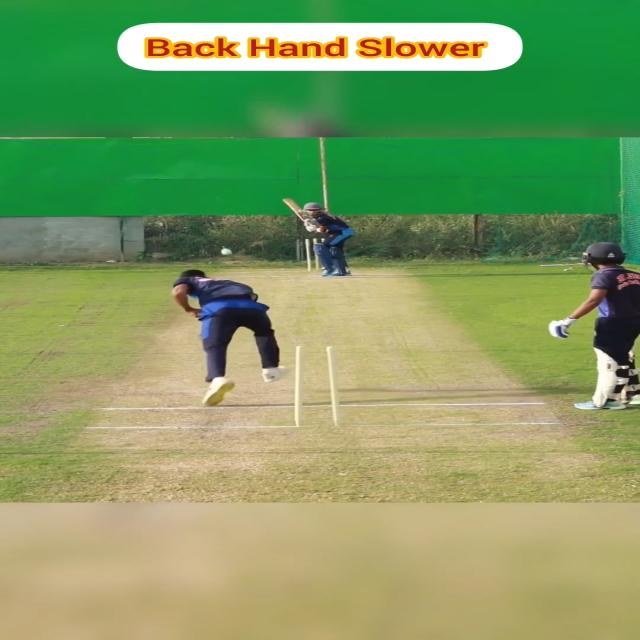ball: (220, 248, 233, 256)
stump: (292, 344, 341, 427), (305, 238, 326, 272)
